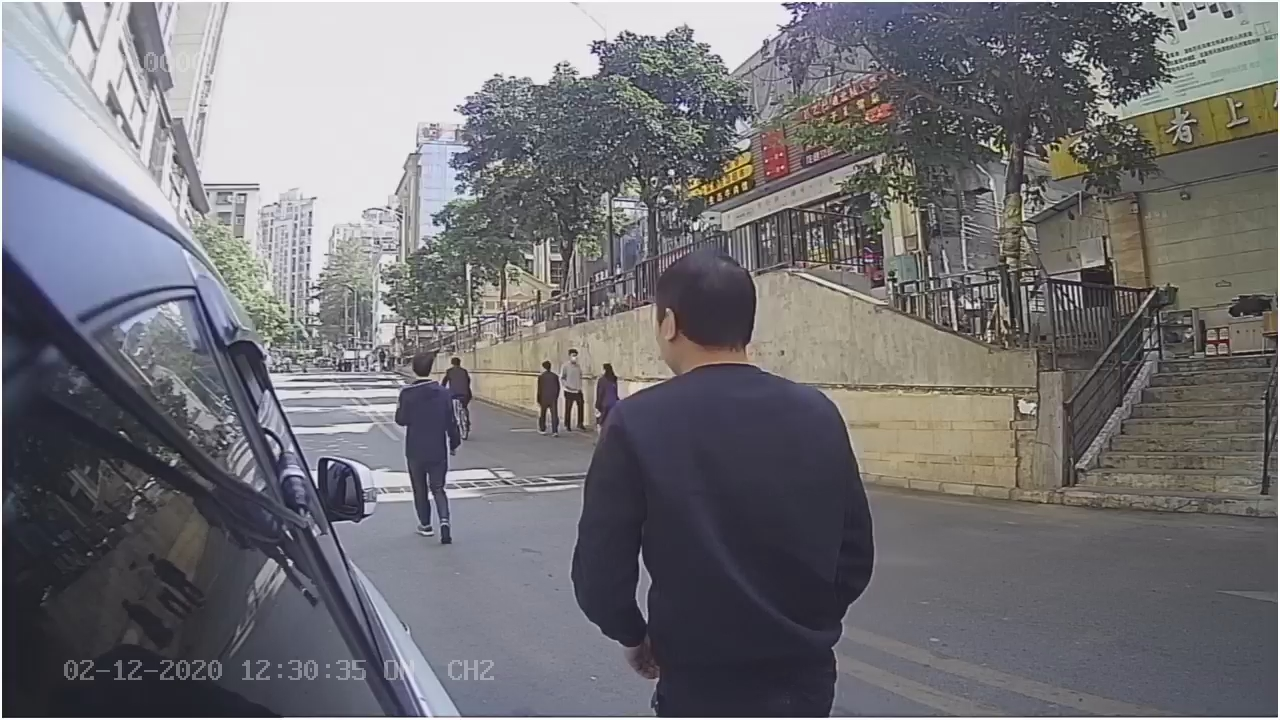person: (575, 246, 875, 537)
